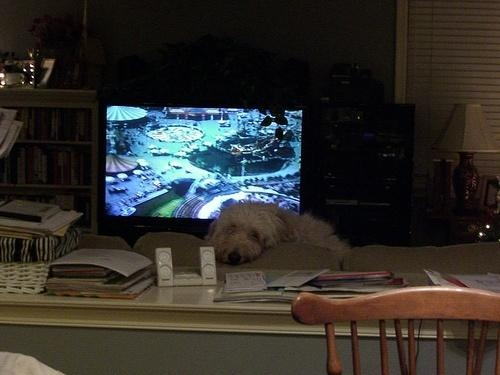chair: (291, 285, 500, 374)
dog: (207, 202, 352, 268)
sofa: (85, 235, 500, 276)
tvmonitor: (100, 86, 312, 238)
